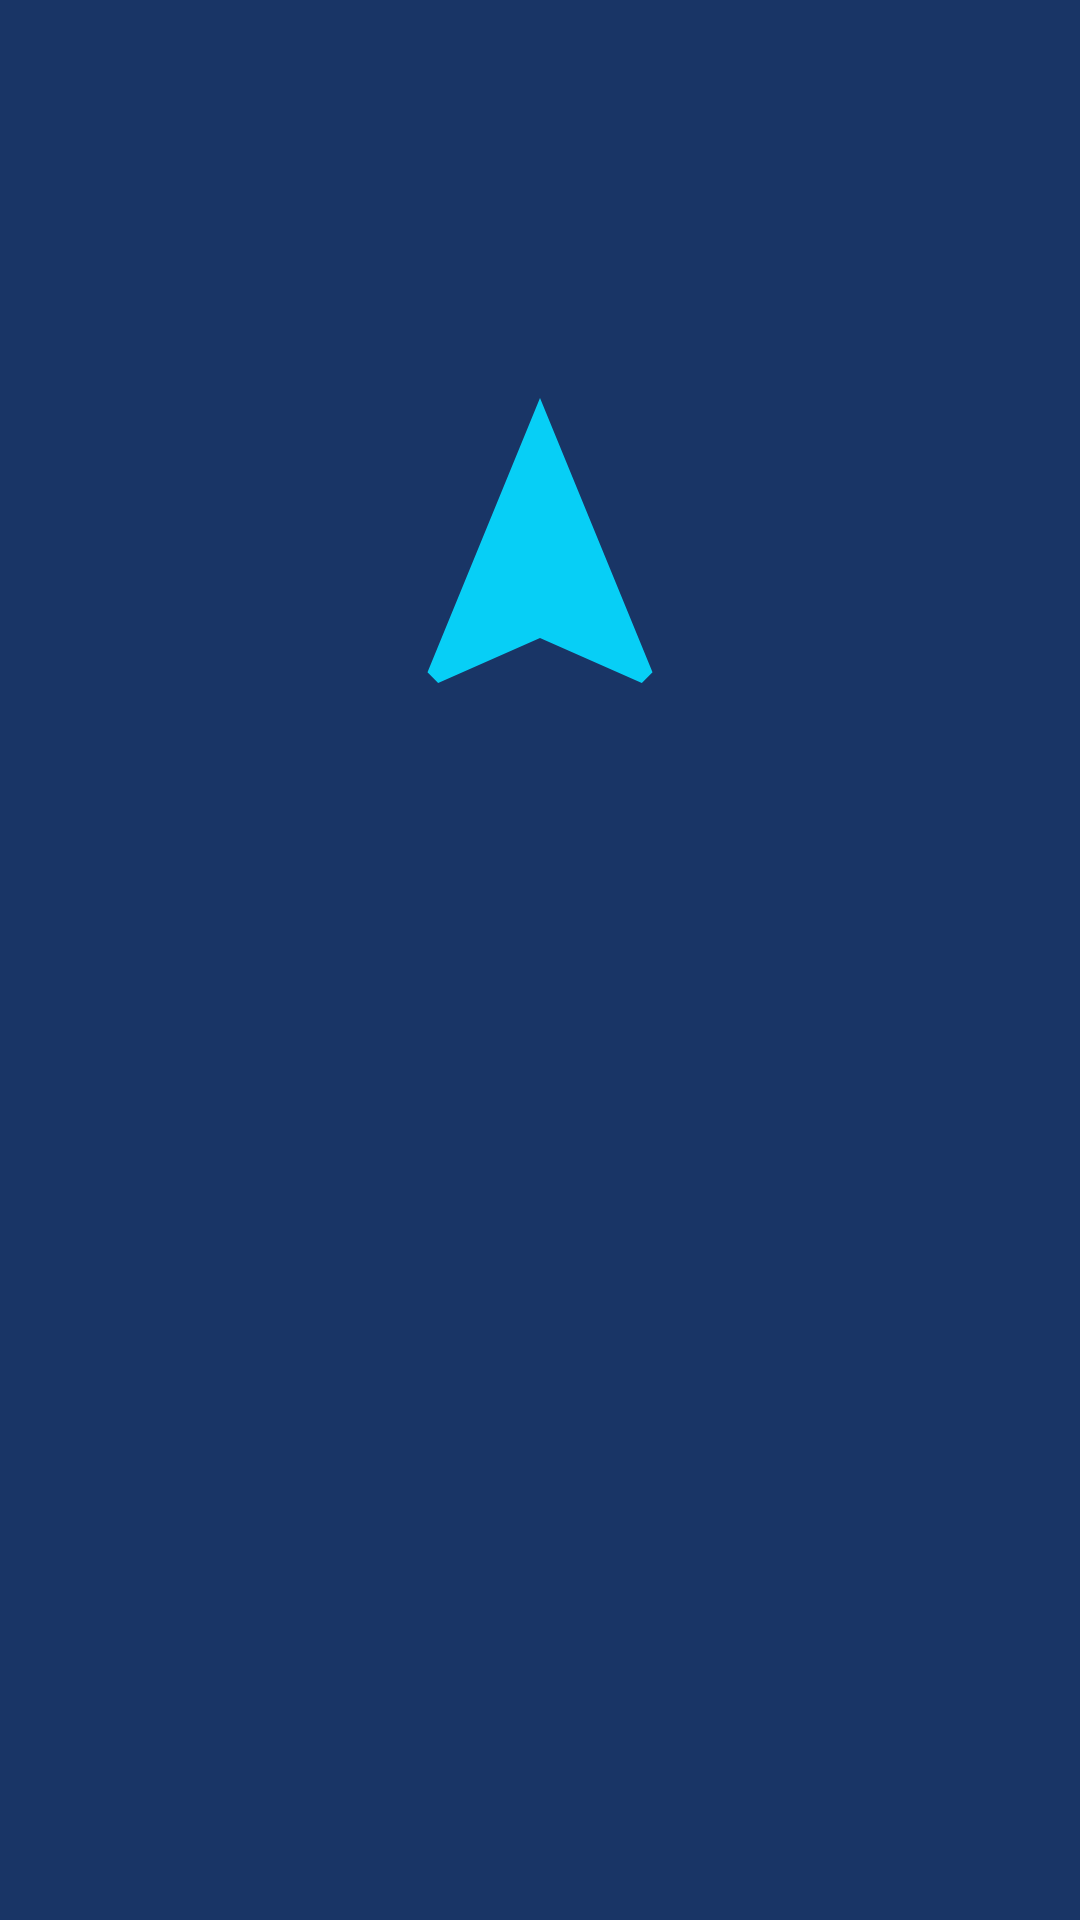

Locate icon controls on the screen. Image size 1080px×1920px, boxes as [left=x1, top=y1, right=x2, bottom=y2].
compass: [left=427, top=398, right=653, bottom=683]
